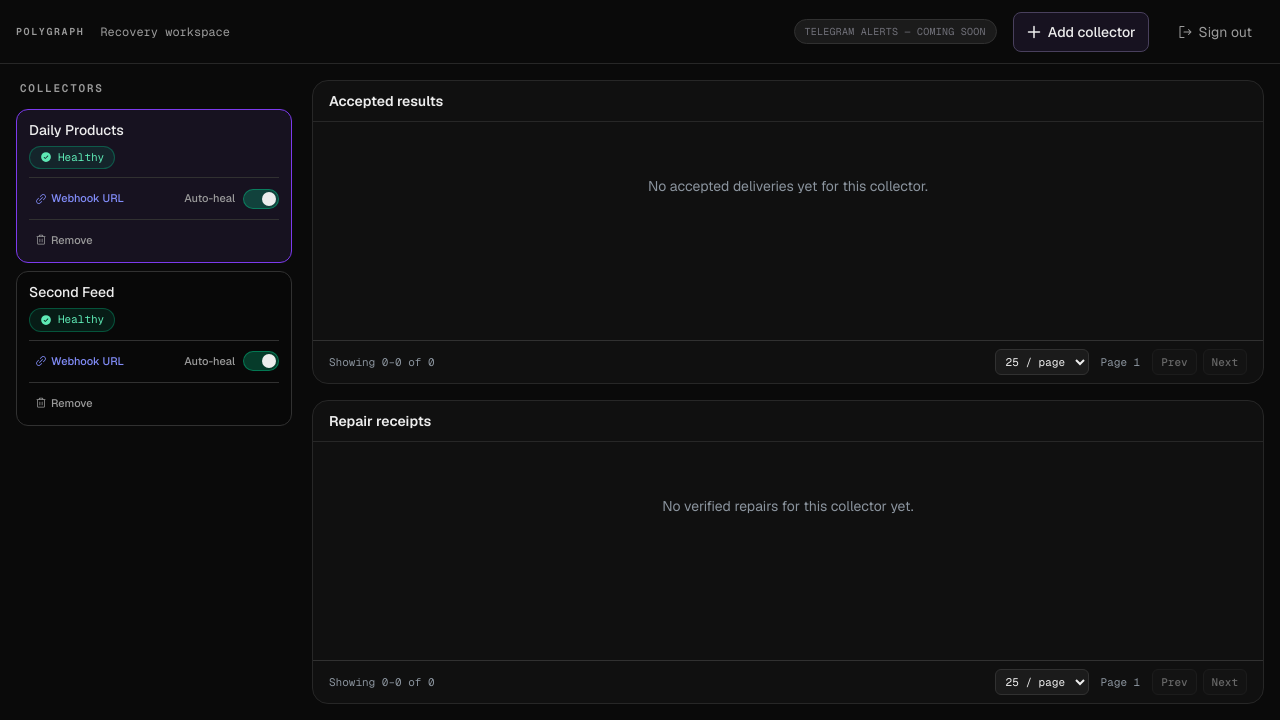
CollectorRail — per-collector webhook URL › opens the reveal dialog for the clicked collector and shows the URL the server returns
Step 1. Click the 2nd button "Webhook URL" → (80, 361), box [29,349,130,374]
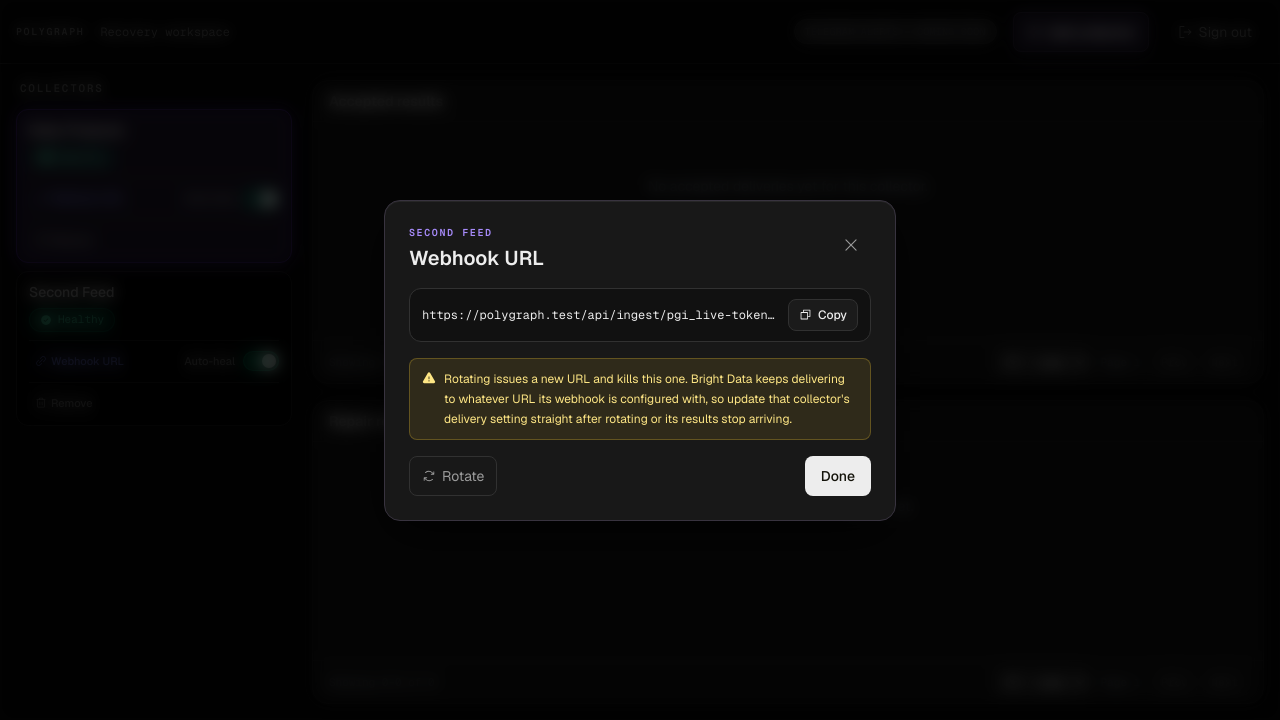
Expected: the text "Second Feed" is shown, [409,226,493,238]
Expected: the text "https://polygraph.test/api/ingest/pgi_live-token-one" is shown, [422,306,780,322]
Expected: the button with aria-label "Copy webhook URL" is shown, [788,298,858,330]
